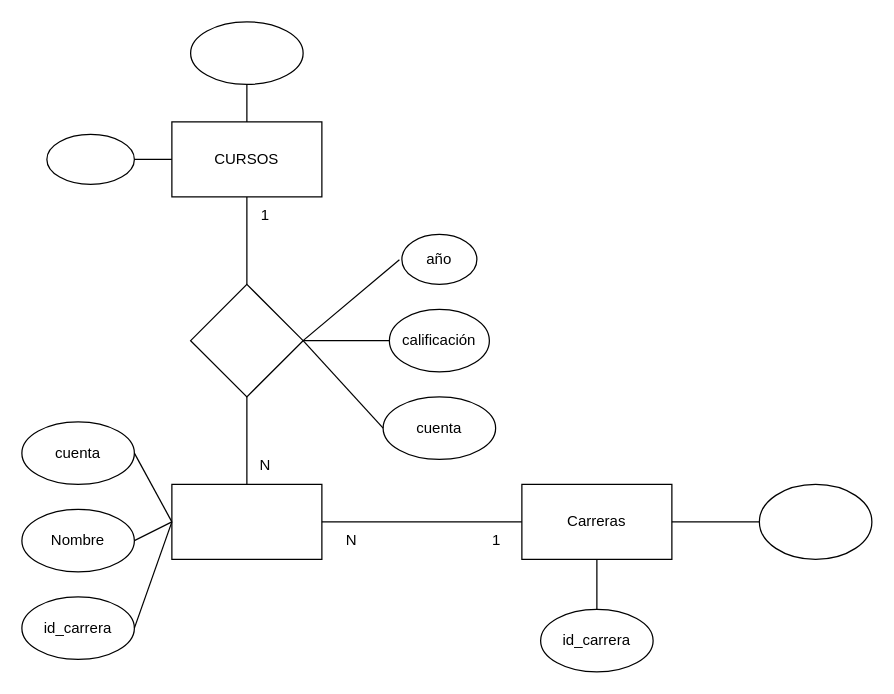
The diagram is 894 pixels wide and 694 high, and some of its shapes have lost their labels. The shapes that lost their labels are listed below. From the top down, each one's centre as x and y in pixels, then its label:
the point at 246,52: nombrecurso
the point at 90,158: id_curso
the point at 246,340: calificaciones
the point at 246,521: ALUMNOS
the point at 815,521: nombrecarrera
